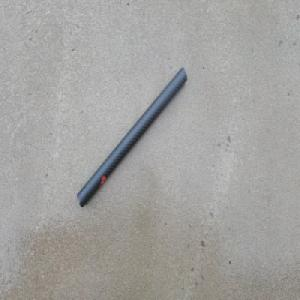LuggagePart: (76, 63, 187, 211)
